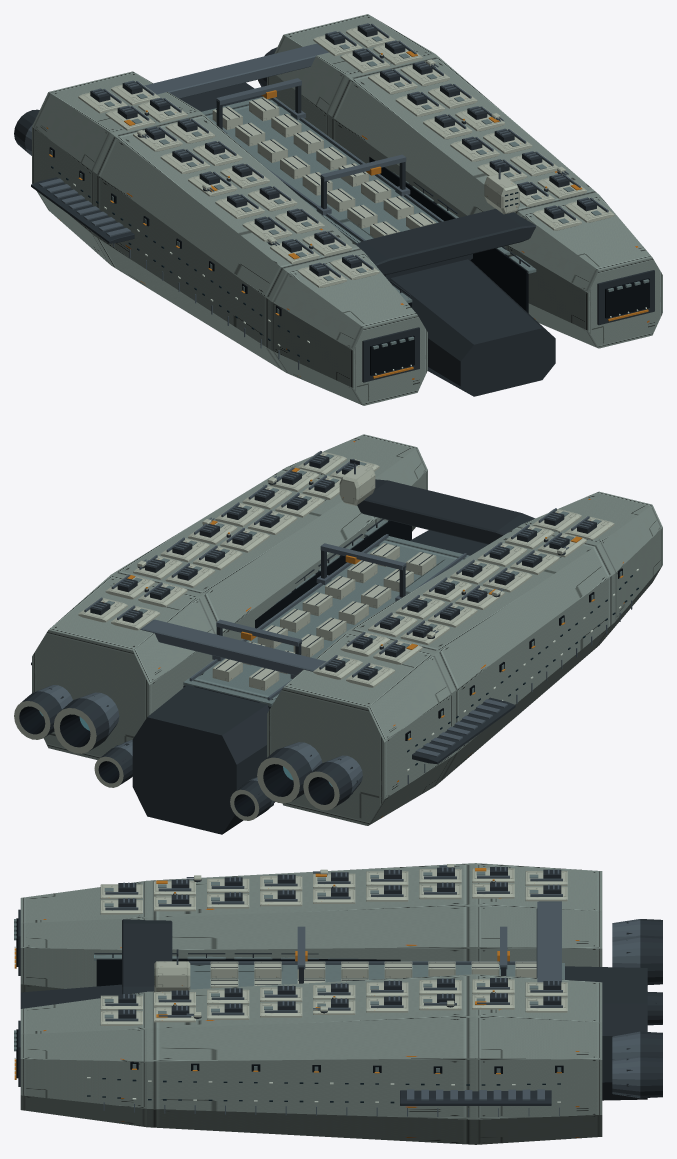
File: colossus-high.glb
The picture shows the model from 3 angles, top to bottom: view 1: azimuth 30°, elevation 25°; view 2: azimuth 150°, elevation 25°; view 3: azimuth 270°, elevation 25°; orthographic projection. The views are drawn at different scales.
Visible parts, largest first — view 1: AV_colossus-high; view 2: AV_colossus-high; view 3: AV_colossus-high.
Part boxes in pixels (bbox=[...]): AV_colossus-high: bbox=[14, 14, 662, 405]; AV_colossus-high: bbox=[14, 434, 662, 834]; AV_colossus-high: bbox=[14, 863, 662, 1144].
Size of the model in its own units: 1.18 by 0.4755 by 1.69.
Materials: 1 (1 with a texture image).
